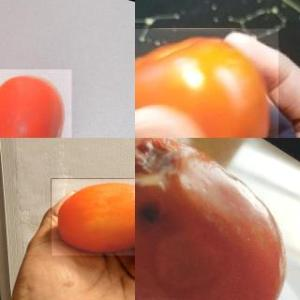tomato: (135, 30, 277, 138), (52, 178, 134, 254), (0, 70, 72, 138)
